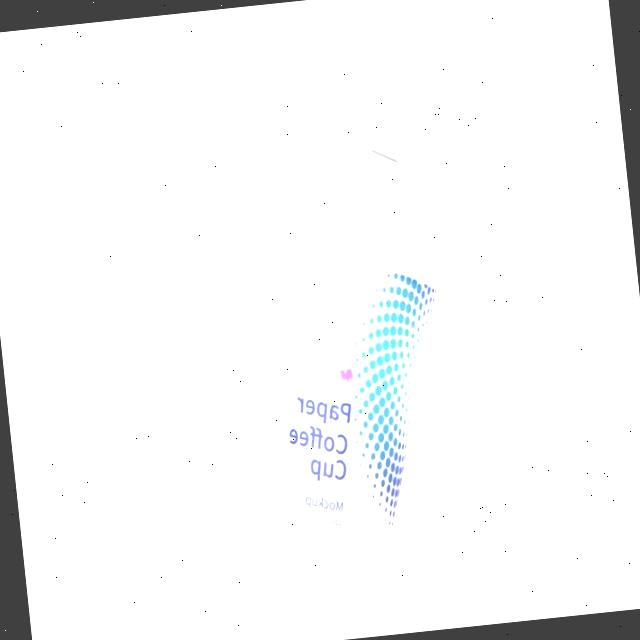trash: (219, 218, 472, 606)
